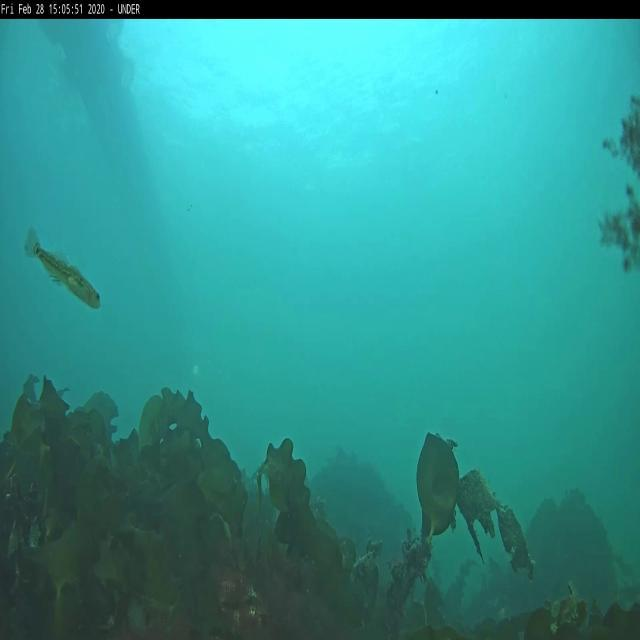fish: (27, 232, 102, 310)
